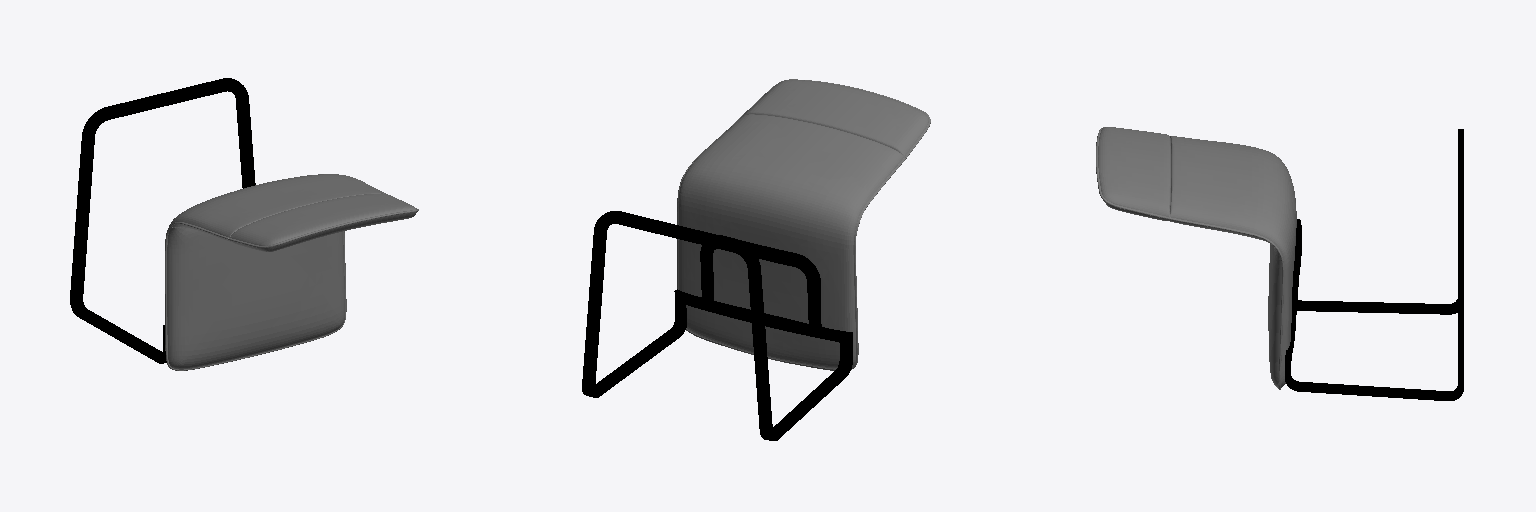
The model's file is chair.obj.
3 views of the same model, side by side, from view 1: azimuth 30°, elevation 25°; view 2: azimuth 150°, elevation 25°; view 3: azimuth 270°, elevation 25° (orthographic).
Parts seen in each view (by area): view 1: willisau_modica_chair_cantilever_mat1, modica_chair_mat2; view 2: willisau_modica_chair_cantilever_mat1, modica_chair_mat2; view 3: willisau_modica_chair_cantilever_mat1, modica_chair_mat2.
Boxes of the visible parts, x1,y1,x2,y2 form: willisau_modica_chair_cantilever_mat1: [165, 174, 418, 370]; modica_chair_mat2: [70, 78, 255, 363]; willisau_modica_chair_cantilever_mat1: [677, 79, 930, 370]; modica_chair_mat2: [582, 211, 852, 440]; willisau_modica_chair_cantilever_mat1: [1096, 127, 1296, 389]; modica_chair_mat2: [1285, 129, 1463, 400].
Bounding box in the file's own units: 52.84 × 53.92 × 88.95.